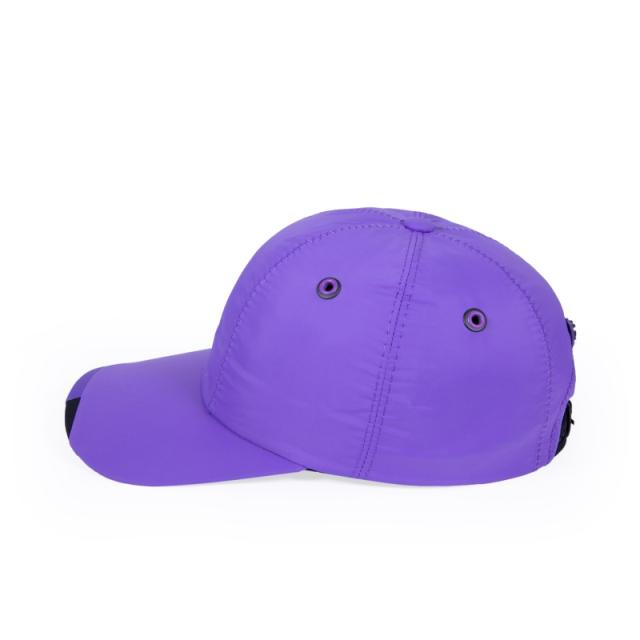Cap: (65, 207, 577, 487)
